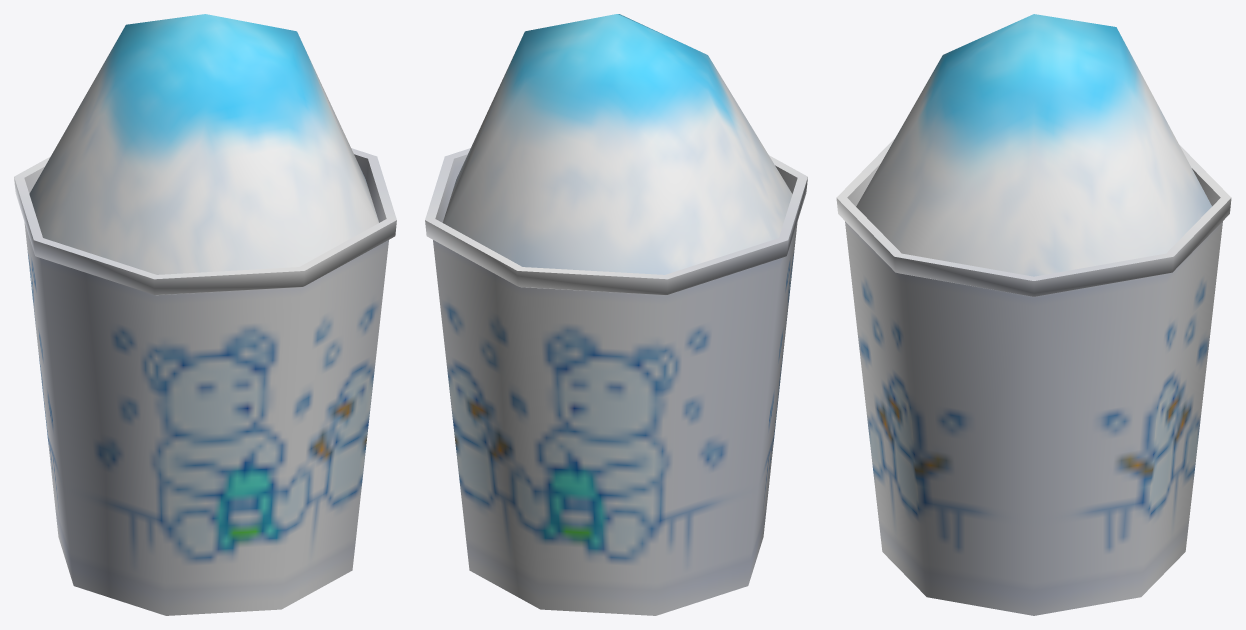
File: jsf_ShavedIce_04d.fbx
3 renders of one model, left to right at view 1: azimuth 30°, elevation 25°; view 2: azimuth 150°, elevation 25°; view 3: azimuth 270°, elevation 25°, orthographic.
Parts seen in each view (by area): view 1: jsf_ShavedIce_04d; view 2: jsf_ShavedIce_04d; view 3: jsf_ShavedIce_04d.
Boxes of the visible parts, left/top/right/bottom form: jsf_ShavedIce_04d: left=14, top=14, right=396, bottom=615; jsf_ShavedIce_04d: left=425, top=14, right=807, bottom=615; jsf_ShavedIce_04d: left=836, top=14, right=1231, bottom=615.
Size of the model in its own units: 9.3 by 13.97 by 9.3.
